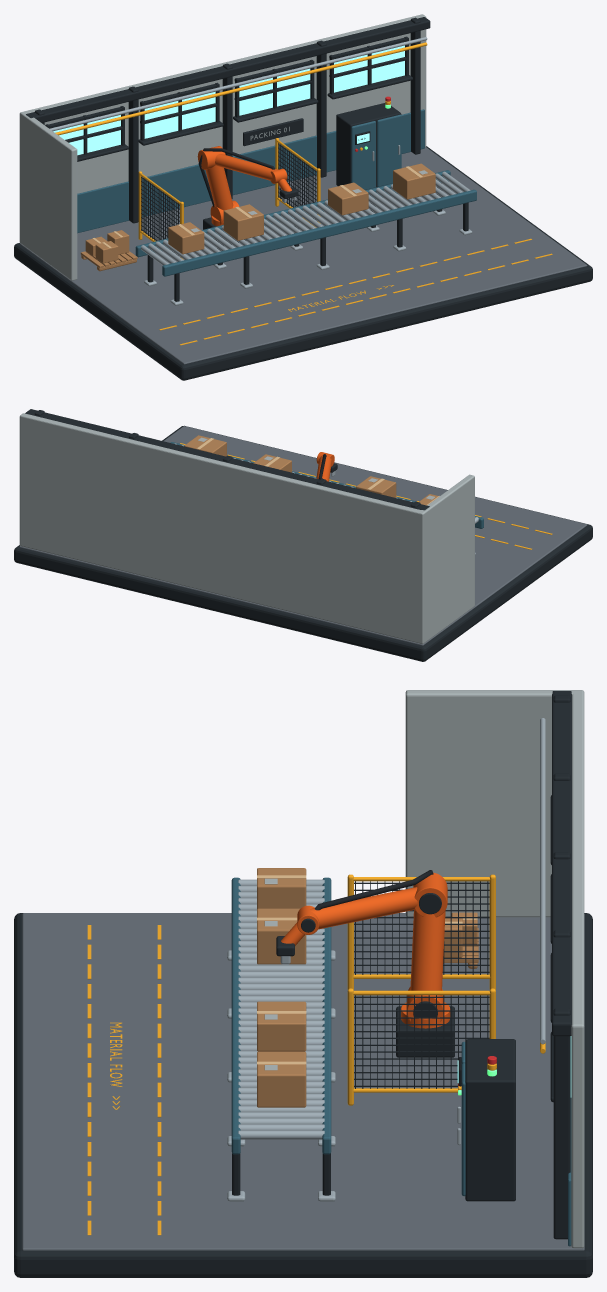
The model's file is world-base-factory.glb.
3 renders of one model, top to bottom at view 1: azimuth 30°, elevation 25°; view 2: azimuth 150°, elevation 25°; view 3: azimuth 270°, elevation 25°, orthographic. The views are drawn at different scales.
Parts seen in each view (by area): view 1: object 1, object 3, Conveyor side channel, object 4, Daylit window.001, Daylit window.003, Daylit window.002, Cabinet door.001, Overhead utility, Overhead utility.001, Cabinet door, Steel column.001 (+8 smaller); view 2: object 1, object 3, object 4; view 3: object 1, object 3, object 4, Steel column.004, Conveyor side channel, Conveyor side channel.001, Overhead utility, Free-running roller.041, Guard rail.003, Guard post.002, Guard post.001.
Part boxes in pixels (left/top/right/bottom): object 1: left=14, top=14, right=592, bottom=380; object 3: left=85, top=163, right=435, bottom=263; Conveyor side channel: left=162, top=189, right=476, bottom=276; object 4: left=197, top=131, right=370, bottom=226; Daylit window.001: left=144, top=91, right=215, bottom=138; Daylit window.003: left=334, top=45, right=404, bottom=92; Daylit window.002: left=239, top=68, right=310, bottom=115; Cabinet door.001: left=377, top=114, right=401, bottom=186; Overhead utility: left=49, top=37, right=427, bottom=131; Overhead utility.001: left=55, top=42, right=427, bottom=135; Cabinet door: left=351, top=121, right=375, bottom=189; Steel column.001: left=128, top=86, right=138, bottom=223; object 1: left=14, top=409, right=592, bottom=661; object 3: left=184, top=435, right=438, bottom=505; object 4: left=316, top=452, right=334, bottom=481; object 1: left=14, top=690, right=592, bottom=1277; object 3: left=257, top=868, right=477, bottom=1107; object 4: left=281, top=870, right=461, bottom=1086; Steel column.004: left=553, top=1008, right=570, bottom=1239; Conveyor side channel: left=231, top=877, right=240, bottom=1154; Conveyor side channel.001: left=322, top=877, right=331, bottom=1154; Overhead utility: left=540, top=718, right=545, bottom=1044; Free-running roller.041: left=238, top=1130, right=324, bottom=1139; Guard rail.003: left=353, top=990, right=490, bottom=995; Guard post.002: left=347, top=988, right=353, bottom=1105; Guard post.001: left=489, top=874, right=495, bottom=989.
Size of what is drawn, in the model's own units: 11.84 by 4.1 by 8.44.
